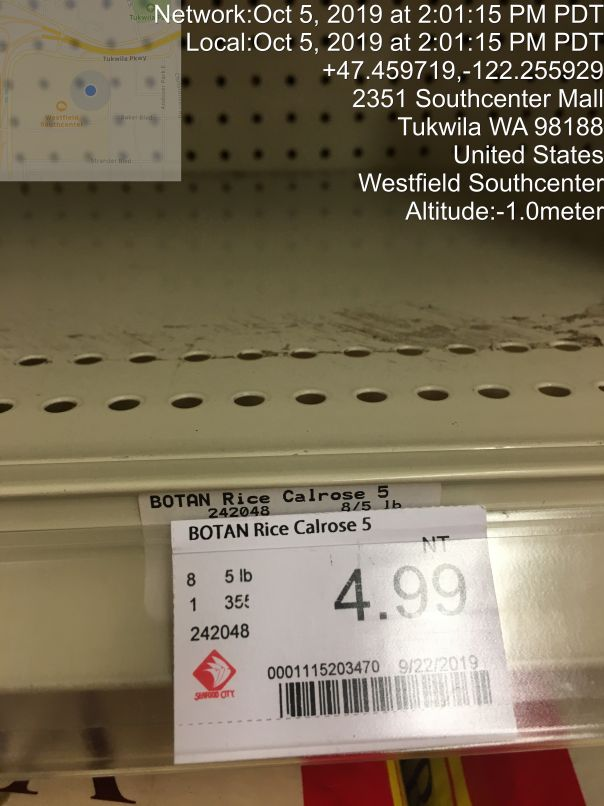Label: (160, 505, 524, 756)
Location: (343, 82, 604, 196)
Time: (149, 1, 604, 54)
Void: (7, 36, 595, 401)
